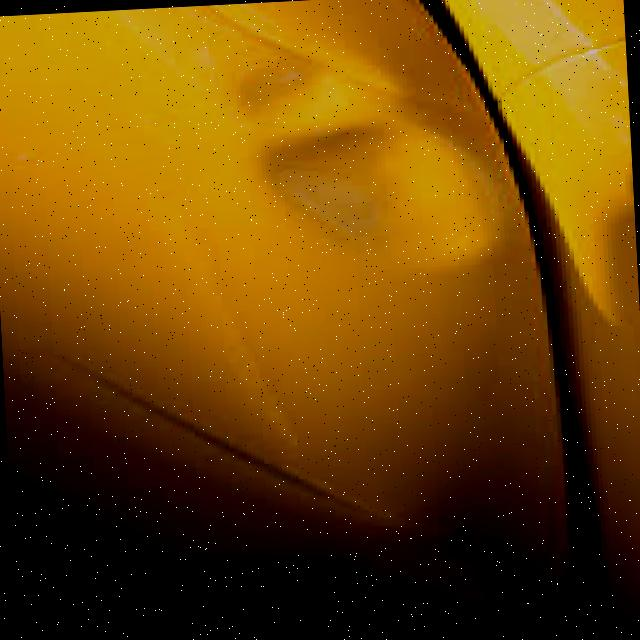Dent: (220, 3, 530, 270)
